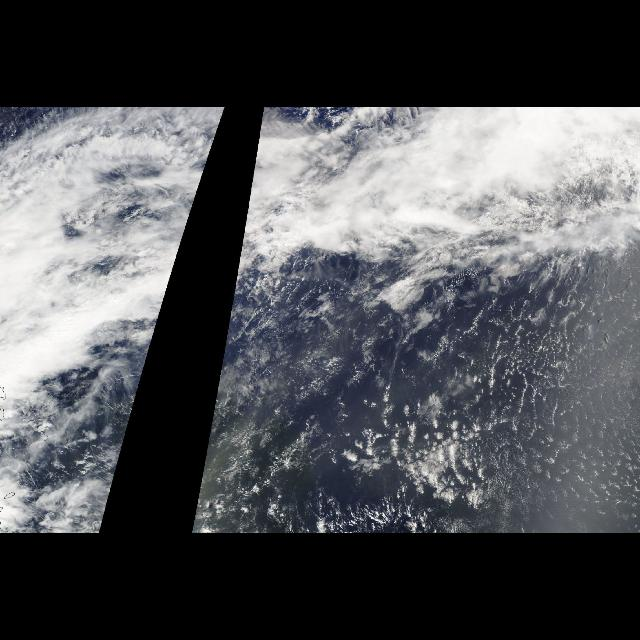Sugar: (390, 318, 640, 534)
